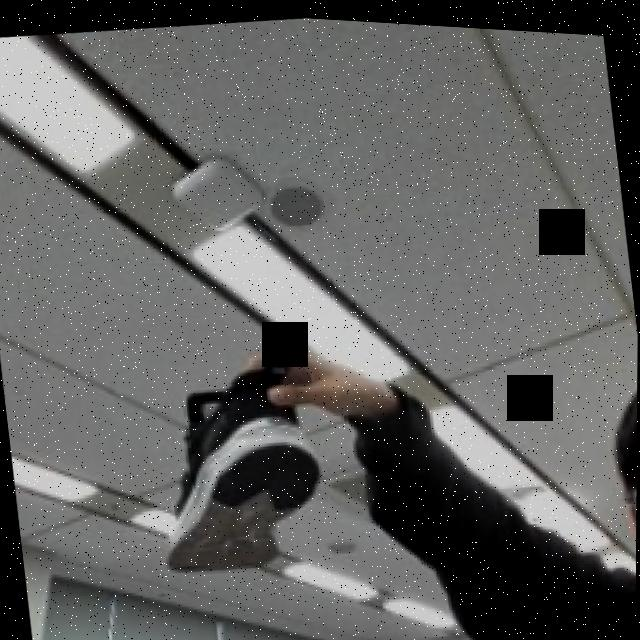shoes: (140, 334, 331, 586)
